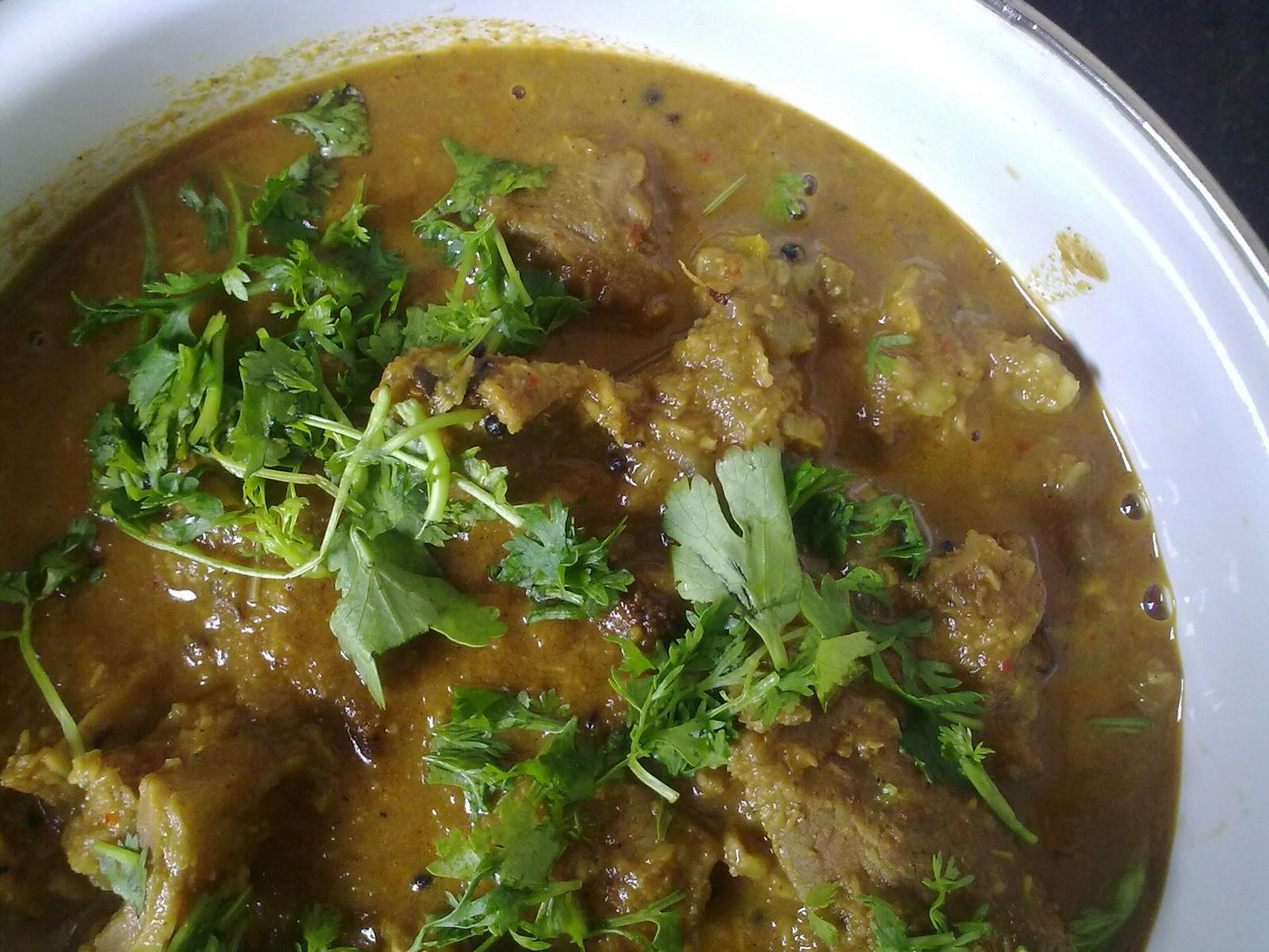MuttonCurry: (1, 44, 1183, 952)
